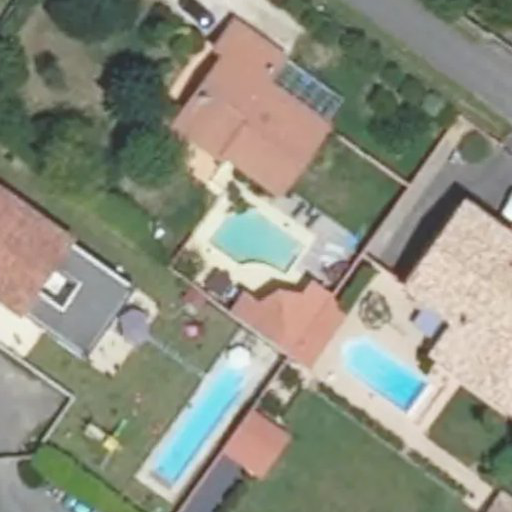pool: (207, 238, 304, 245)
